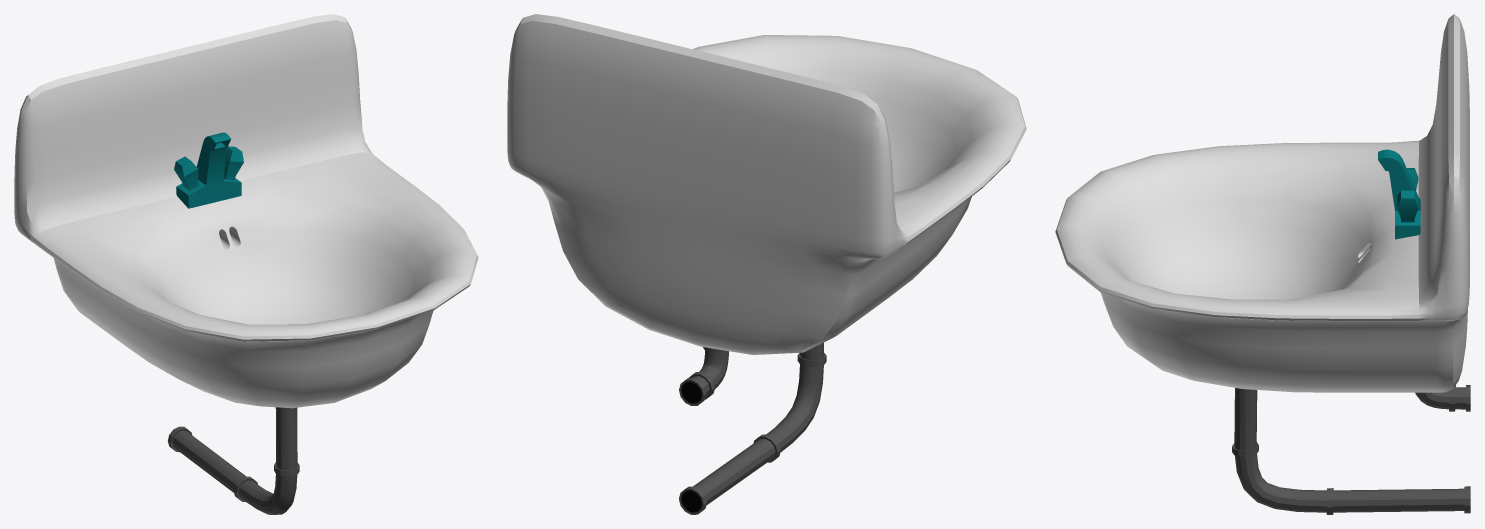
The model's file is sink2.fbx.
The picture shows the model from 3 angles, left to right: view 1: azimuth 30°, elevation 25°; view 2: azimuth 150°, elevation 25°; view 3: azimuth 270°, elevation 25°; orthographic projection. The views are drawn at different scales.
Parts seen in each view (by area): view 1: Cube; view 2: Cube; view 3: Cube.
Boxes of the visible parts, x1=… form: Cube: x1=14, y1=14, x2=478, y2=514; Cube: x1=507, y1=14, x2=1026, y2=514; Cube: x1=1055, y1=14, x2=1470, y2=514.
Size of the model in its own units: 72.34 by 82.74 by 72.79.
